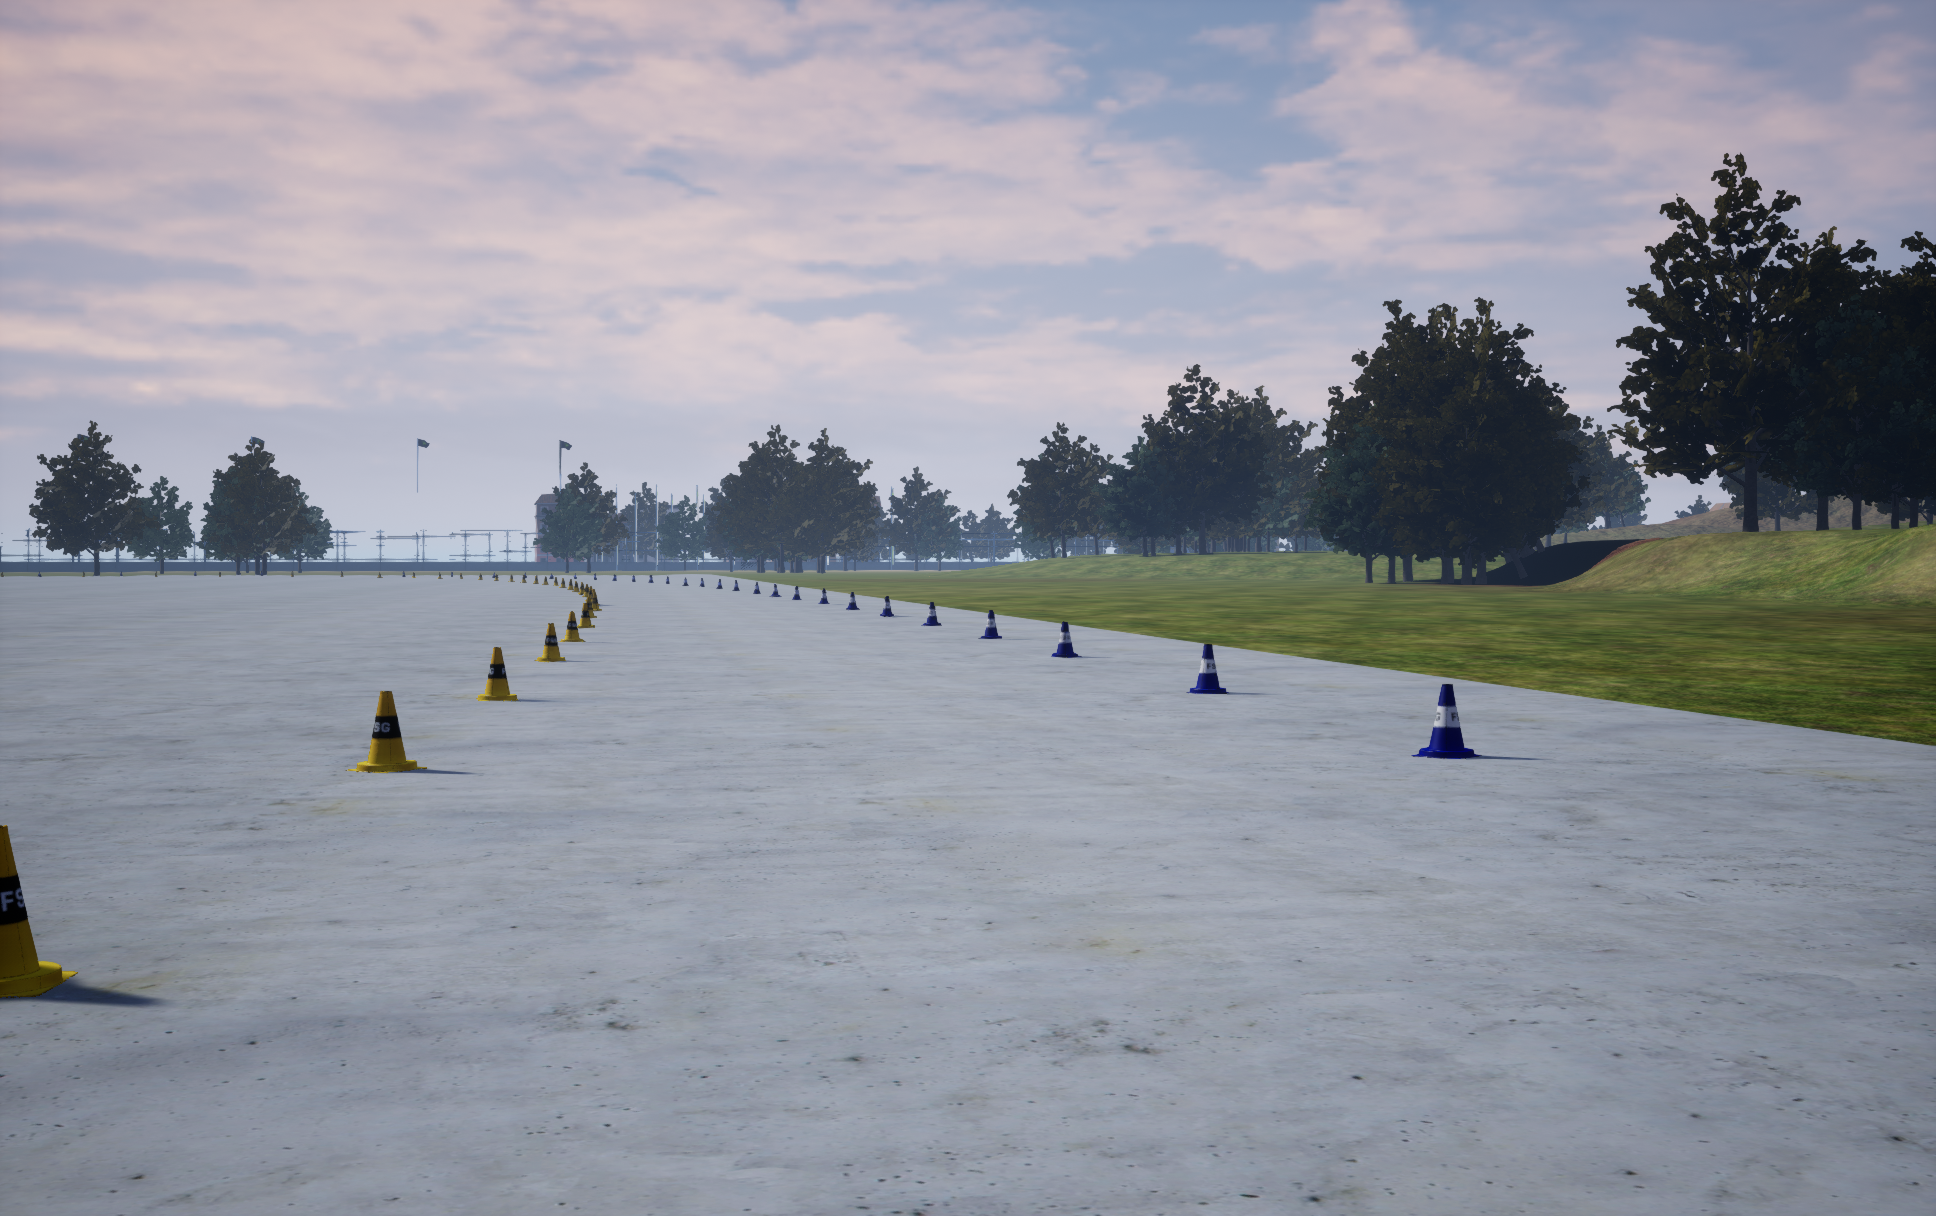blue: (0, 825, 77, 997), (345, 691, 426, 772), (476, 647, 518, 700), (534, 623, 565, 661), (558, 611, 586, 642), (577, 602, 594, 628)
yellow: (1411, 684, 1481, 758), (1187, 644, 1229, 693), (1051, 621, 1081, 657), (978, 609, 1002, 637), (920, 602, 941, 625), (880, 595, 892, 616), (846, 593, 859, 609)
